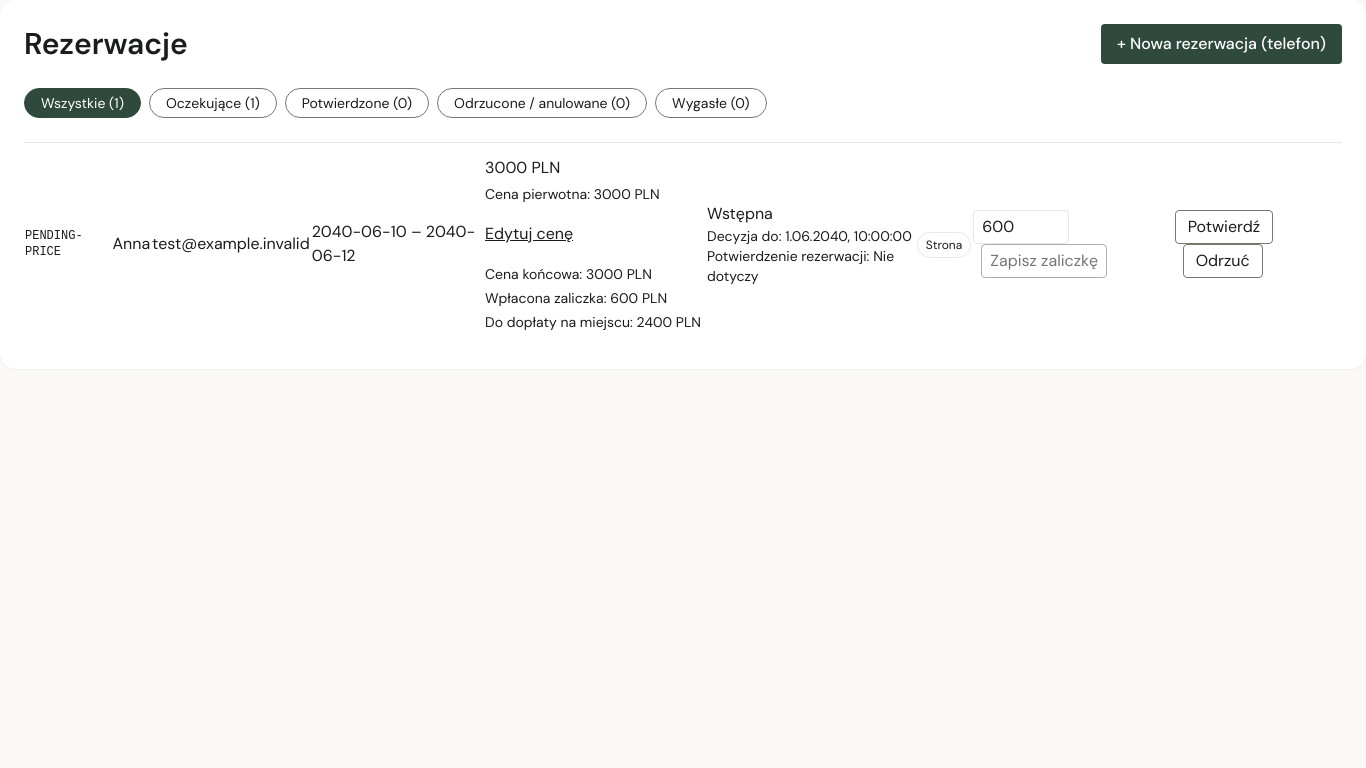
Test: pending booking price editor › previews the original-based discount without changing the paid deposit
Check: the text "Anna" is shown, box [111,142,151,345]
Click the button "Edytuj cenę".
click(529, 234)  # box [485,212,573,256]
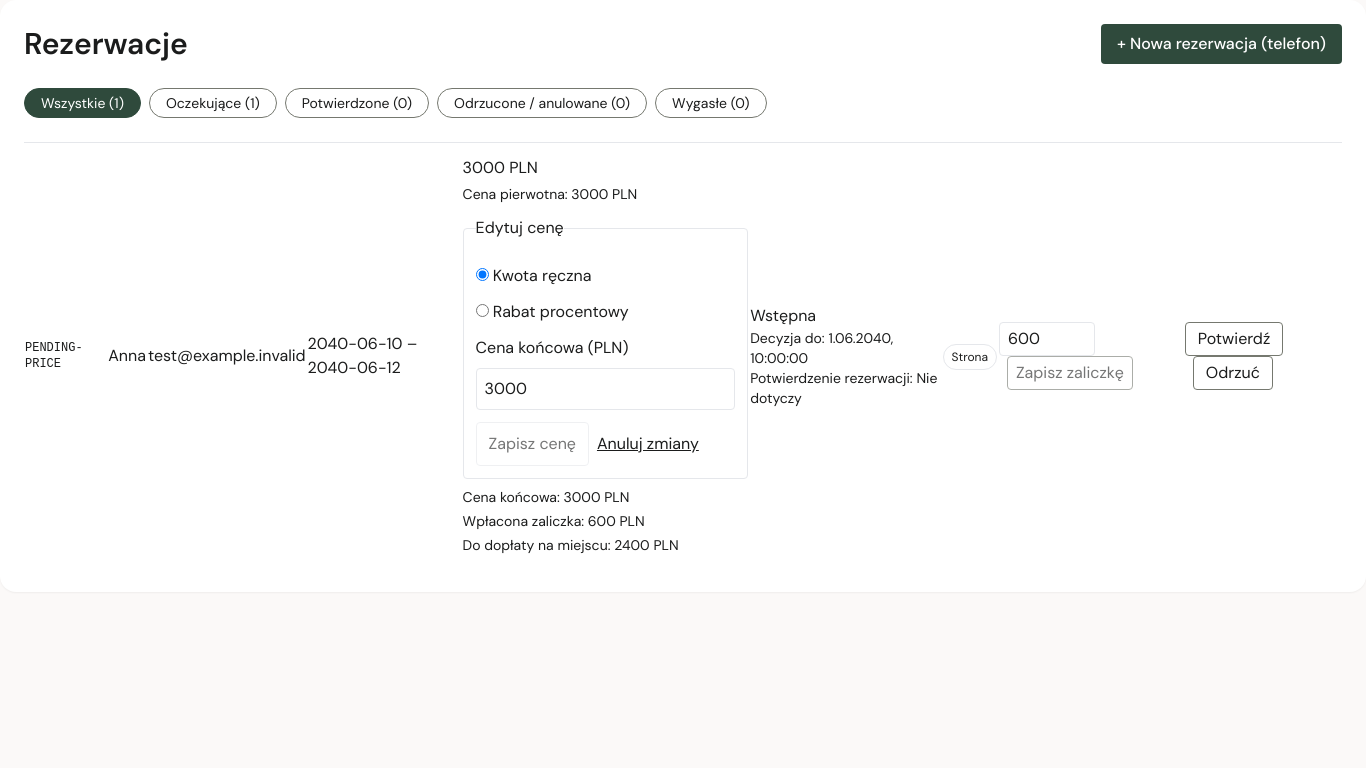
Click the radio button labelled "Rabat procentowy".
click(482, 310)  # box [476,304,489,317]
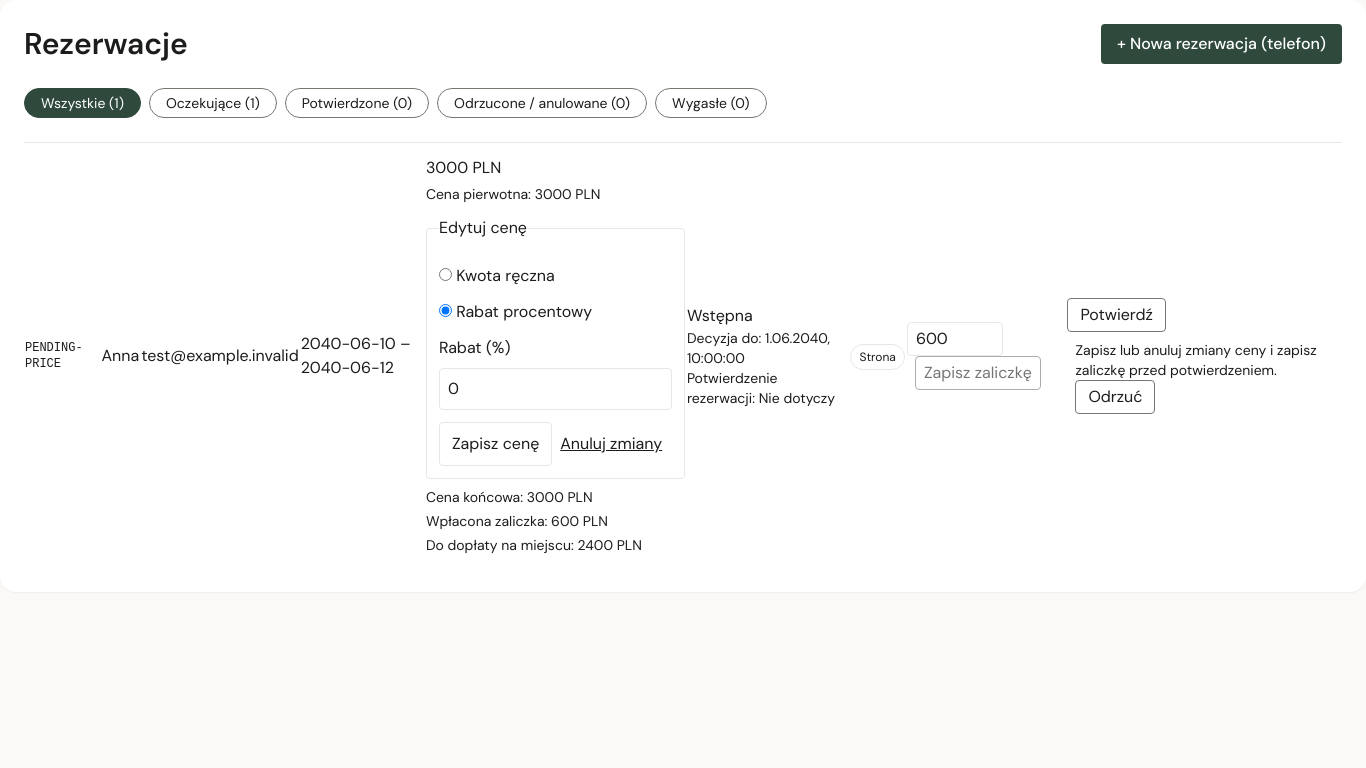
Replace the text in the field labelled "Rabat (%)" with "10" at coordinates (555, 389), box [439,368,672,410]
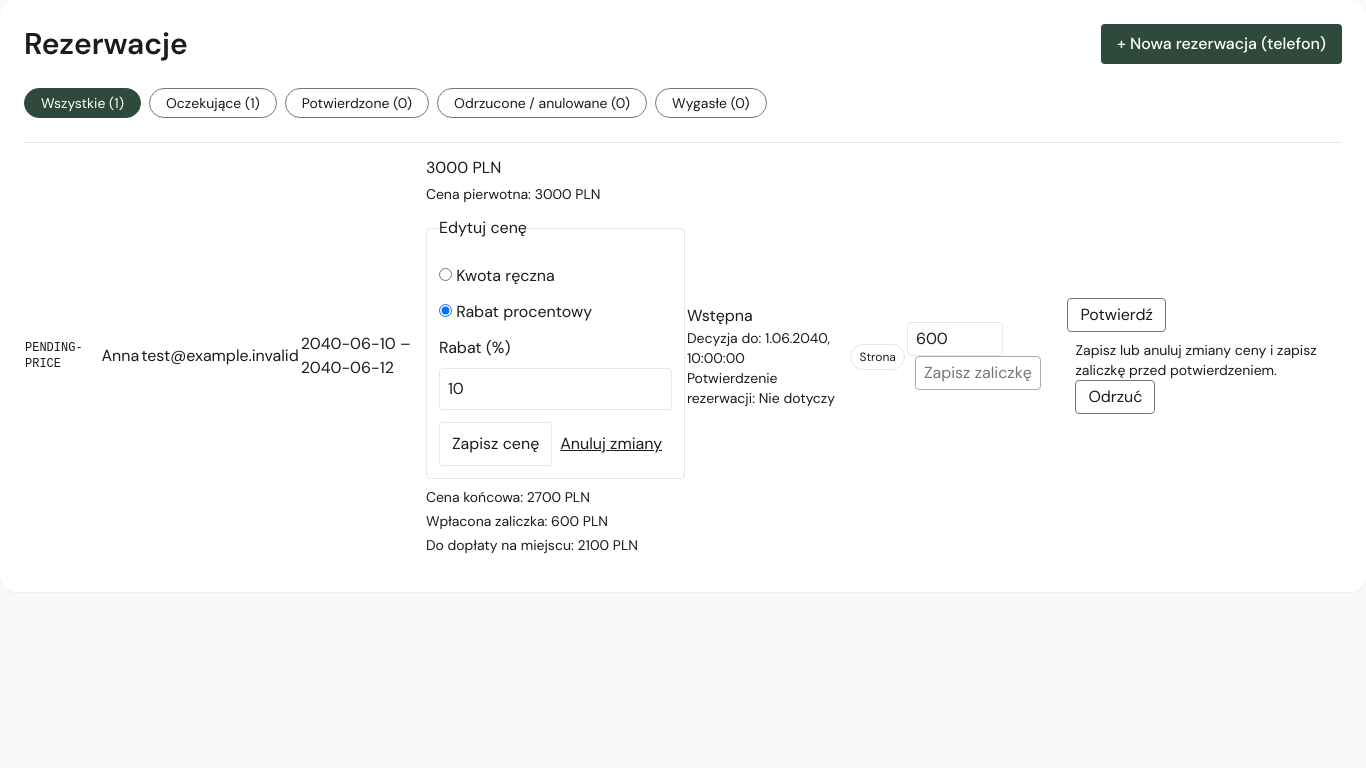
Check: the button "Potwierdź" is disabled, box [1067,298,1166,332]
Check: the text "Cena końcowa: 2700 PLN" is shown, box [426,488,590,506]
Check: the text "Do dopłaty na miejscu: 2100 PLN" is shown, box [426,536,638,554]
Click the button "Zapisz cenę".
click(496, 444)  # box [439,422,552,466]
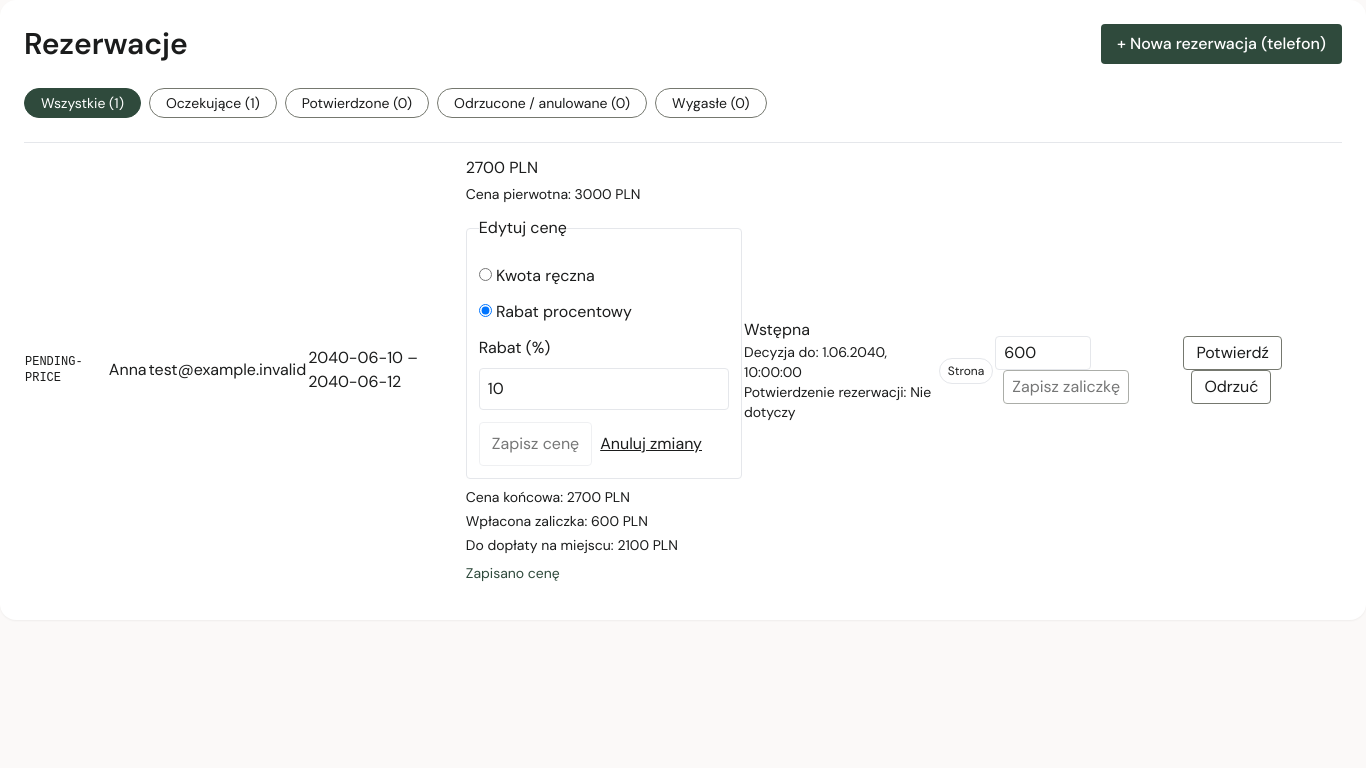
Check: the text "Zapisano cenę" is shown, box [466,564,560,582]
Check: the button "Potwierdź" is enabled, box [1183,336,1282,370]
Check: the text "2700 PLN" is shown, box [466,157,538,178]
